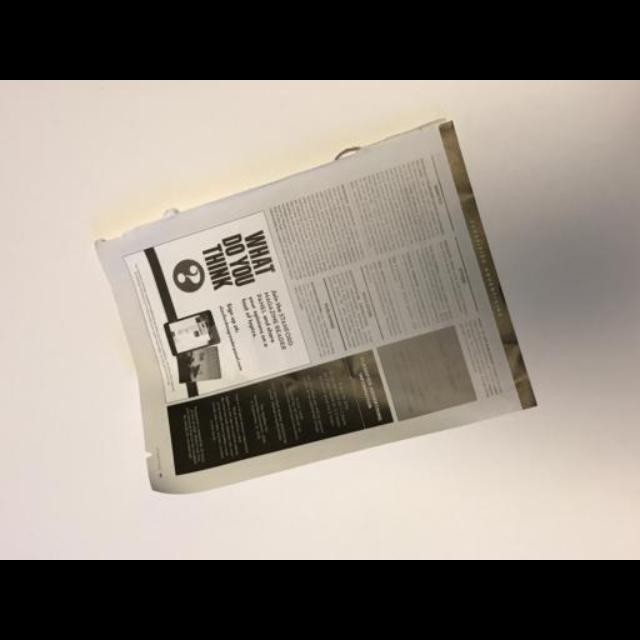papel: (97, 122, 537, 496)
